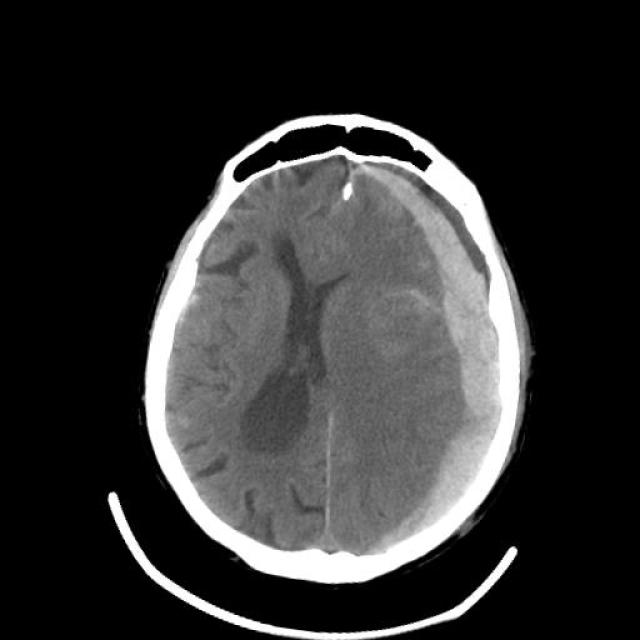Subarachnoid: (370, 272, 450, 322), (253, 156, 303, 202), (168, 290, 204, 340)
Subdural: (302, 150, 568, 598)
